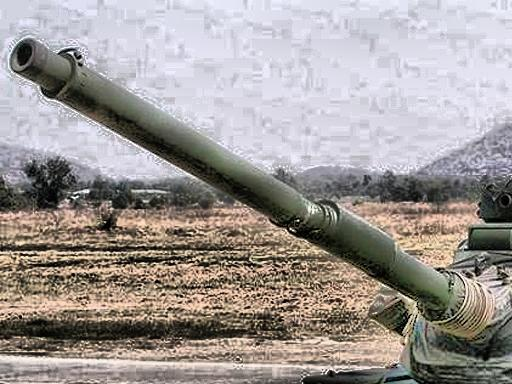tanks: (13, 43, 512, 384)
